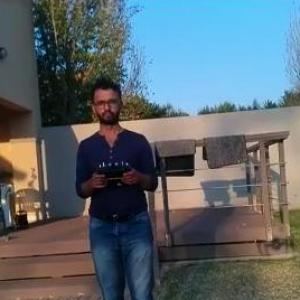follow: (72, 68, 168, 299)
